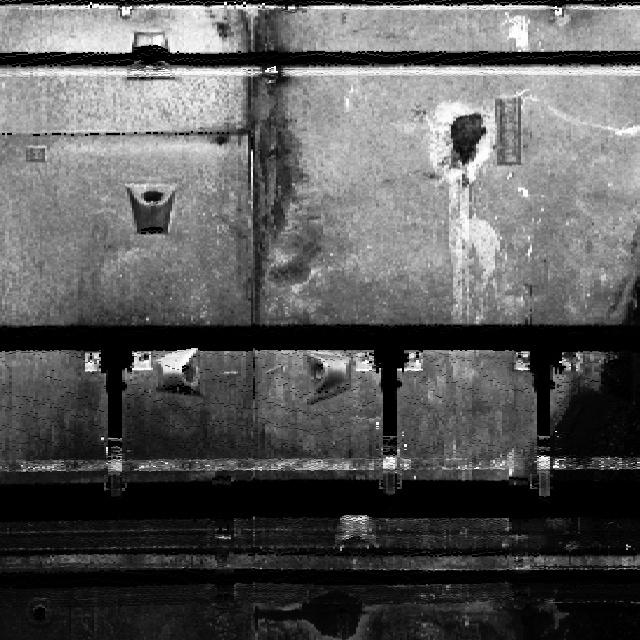leakage: (536, 224, 639, 639), (218, 5, 314, 301), (233, 585, 384, 639)
